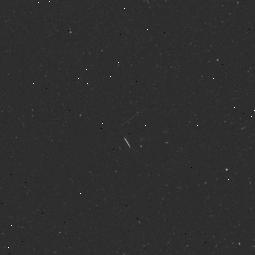proba_3_ocs: (113, 93, 169, 157)
